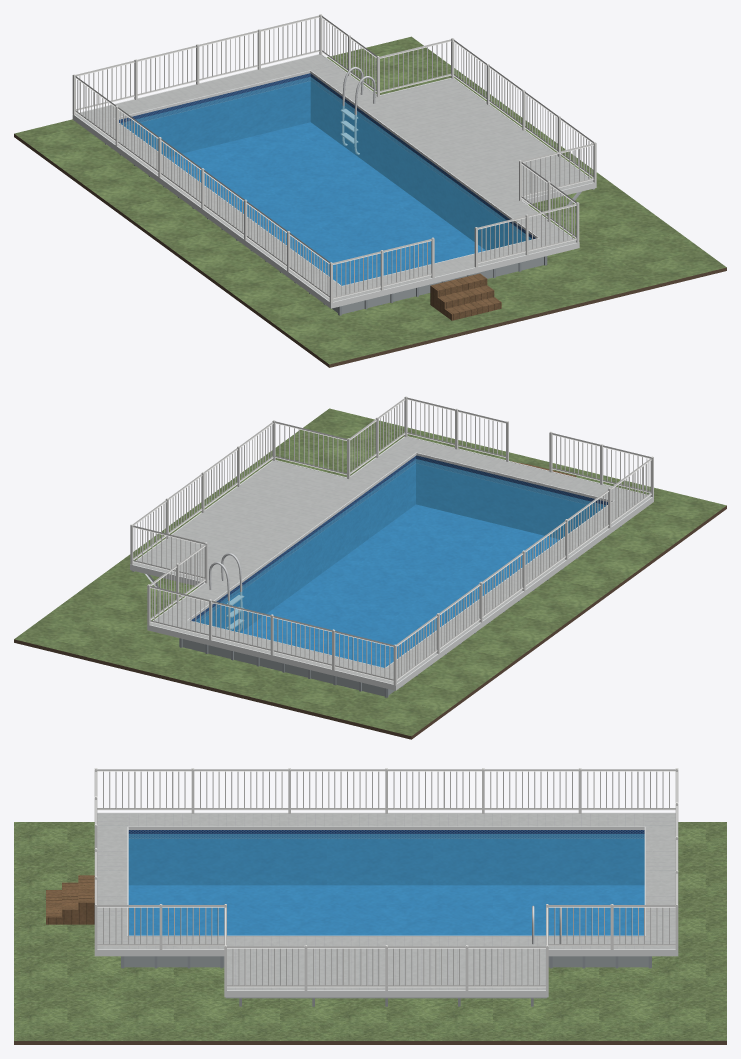
Rendered from kayak-pool-16x32-gray-t-rec-fence.cd03126896.glb.
3 renders of one model, top to bottom at view 1: azimuth 30°, elevation 25°; view 2: azimuth 150°, elevation 25°; view 3: azimuth 270°, elevation 25°, orthographic. The views are drawn at different scales.
Visible parts, largest first — view 1: ground, water, deck, liner_floor, fence, liner_wall, fascia, soil, steps, wall, steel; view 2: ground, water, deck, liner_floor, fence, liner_wall, fascia, soil, wall, steel; view 3: ground, water, deck, liner_wall, liner_floor, fence, fascia, soil, wall, steps, stud.
Part boxes in pixels (left/top/right/bottom): ground: left=14, top=36, right=726, bottom=364; water: left=121, top=77, right=531, bottom=285; deck: left=75, top=54, right=593, bottom=301; liner_floor: left=167, top=122, right=485, bottom=285; fence: left=72, top=14, right=596, bottom=302; liner_wall: left=119, top=73, right=535, bottom=250; fascia: left=72, top=54, right=596, bottom=308; soil: left=14, top=134, right=726, bottom=367; steps: left=430, top=273, right=501, bottom=320; wall: left=332, top=257, right=543, bottom=314; steel: left=340, top=67, right=375, bottom=154; ground: left=14, top=408, right=726, bottom=736; water: left=194, top=459, right=605, bottom=667; deck: left=133, top=437, right=650, bottom=683; liner_floor: left=241, top=504, right=559, bottom=667; fence: left=130, top=396, right=653, bottom=685; liner_wall: left=191, top=455, right=607, bottom=632; fascia: left=130, top=436, right=653, bottom=690; soil: left=14, top=505, right=726, bottom=739; wall: left=182, top=639, right=394, bottom=696; steel: left=209, top=553, right=244, bottom=631; ground: left=14, top=822, right=726, bottom=1040; water: left=128, top=834, right=644, bottom=935; deck: left=97, top=813, right=675, bottom=990; liner_wall: left=128, top=830, right=644, bottom=885; liner_floor: left=128, top=885, right=644, bottom=935; fence: left=94, top=768, right=678, bottom=990; fascia: left=94, top=812, right=678, bottom=997; soil: left=14, top=1041, right=726, bottom=1044; wall: left=124, top=956, right=648, bottom=967; steps: left=46, top=875, right=94, bottom=924; stud: left=225, top=997, right=547, bottom=1006.
Size of the model in its own units: 9.75 by 2.15 by 13.4.
13 materials, 5 textured.
